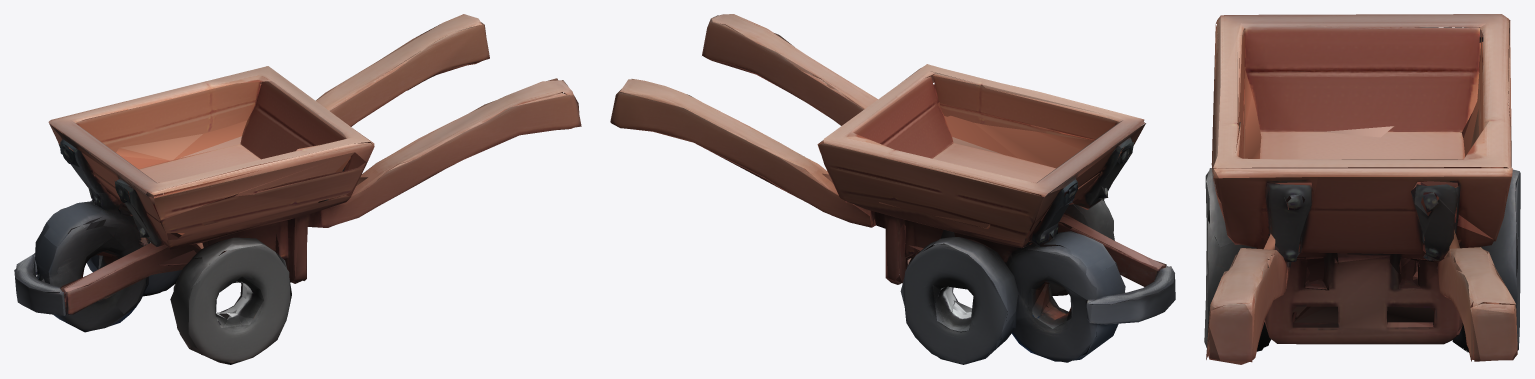
Rendered from wheelbarrow.fbx.
3 views of the same model, side by side, from view 1: azimuth 30°, elevation 25°; view 2: azimuth 150°, elevation 25°; view 3: azimuth 270°, elevation 25° (orthographic). The views are drawn at different scales.
Visible parts, largest first — view 1: wheelbarrow; view 2: wheelbarrow; view 3: wheelbarrow.
Boxes of the visible parts, x1=… form: wheelbarrow: x1=14, y1=14, x2=581, y2=364; wheelbarrow: x1=610, y1=14, x2=1175, y2=364; wheelbarrow: x1=1204, y1=14, x2=1520, y2=364.
Size of the model in its own units: 1.4 by 0.5071 by 0.5302.
Materials: 1 (1 with a texture image).
